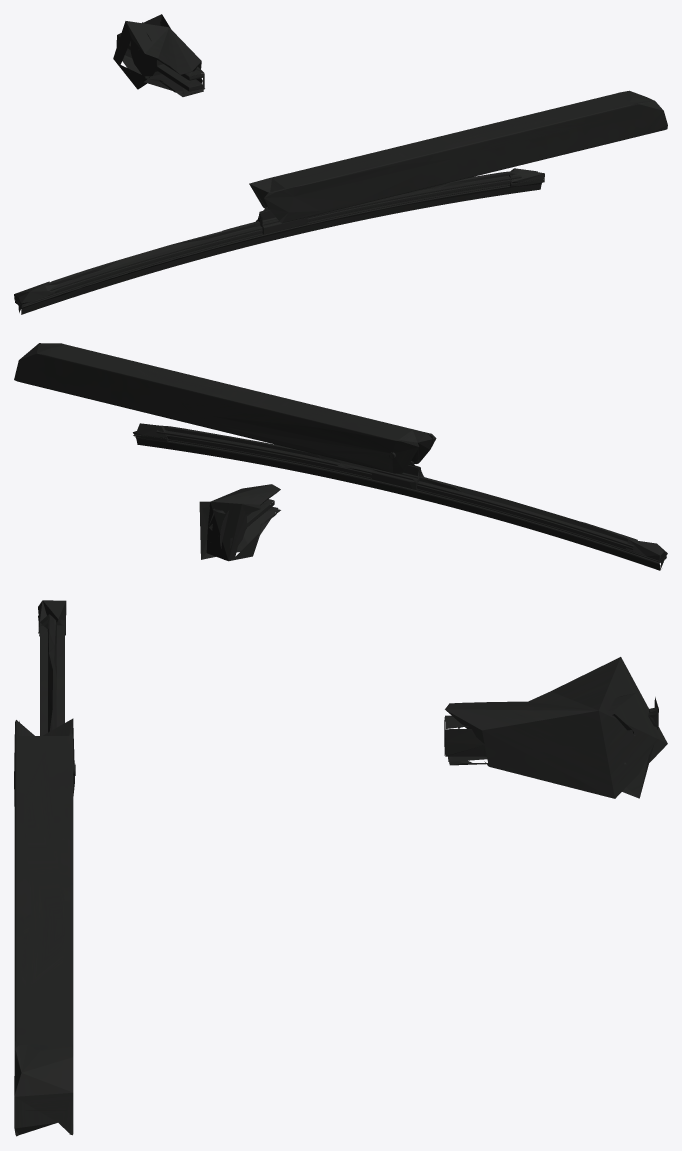
File: bodyPart_wiper_blades_c01.glb
The picture shows the model from 3 angles, top to bottom: view 1: azimuth 30°, elevation 25°; view 2: azimuth 150°, elevation 25°; view 3: azimuth 270°, elevation 25°; orthographic projection. The views are drawn at different scales.
Parts seen in each view (by area): view 1: geometry_0; view 2: geometry_0; view 3: geometry_0.
Part boxes in pixels (bbox=[...]): geometry_0: bbox=[14, 14, 667, 314]; geometry_0: bbox=[14, 343, 667, 570]; geometry_0: bbox=[14, 600, 667, 1136].
Bounding box in the file's own units: 0.42 × 0.0734 × 0.2033.
Materials: 1 (1 with a texture image).
